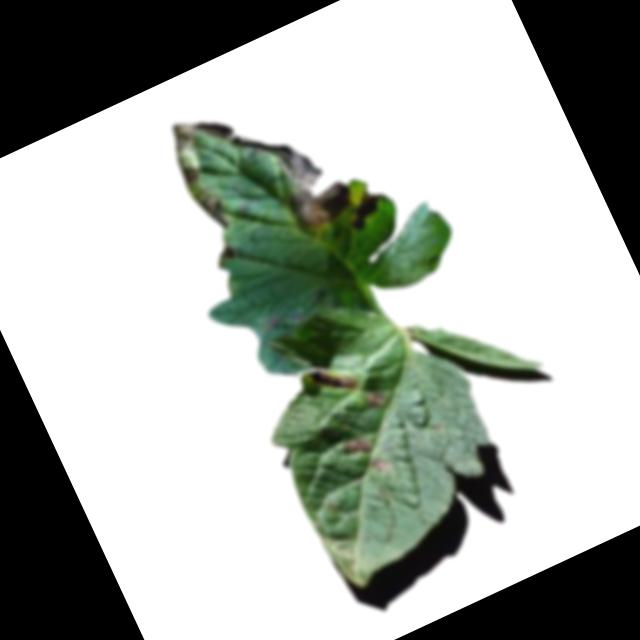Early_blight: (231, 102, 359, 247), (157, 100, 268, 236), (339, 182, 394, 236), (307, 354, 360, 404), (256, 301, 308, 341), (341, 431, 374, 461), (362, 384, 391, 413), (371, 454, 393, 475)
